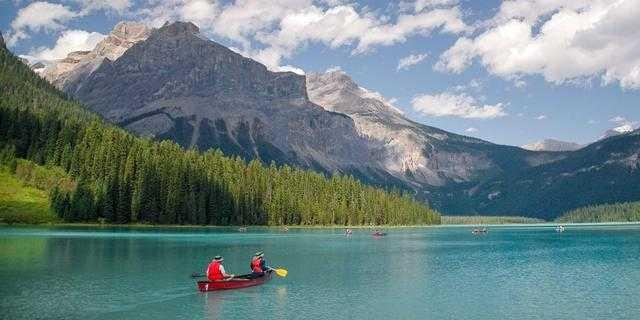kayak: (194, 272, 272, 292), (371, 230, 385, 238)
